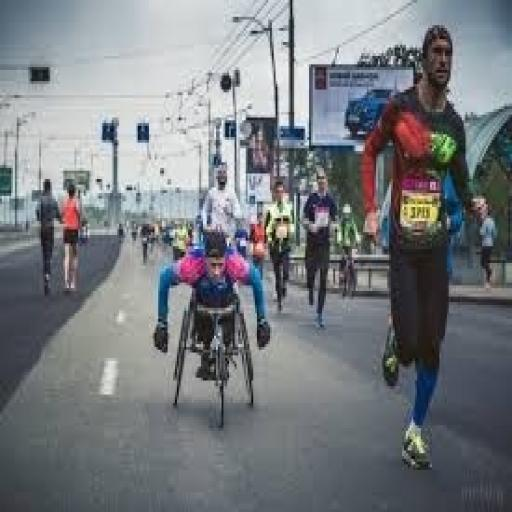running: (358, 22, 482, 473)
